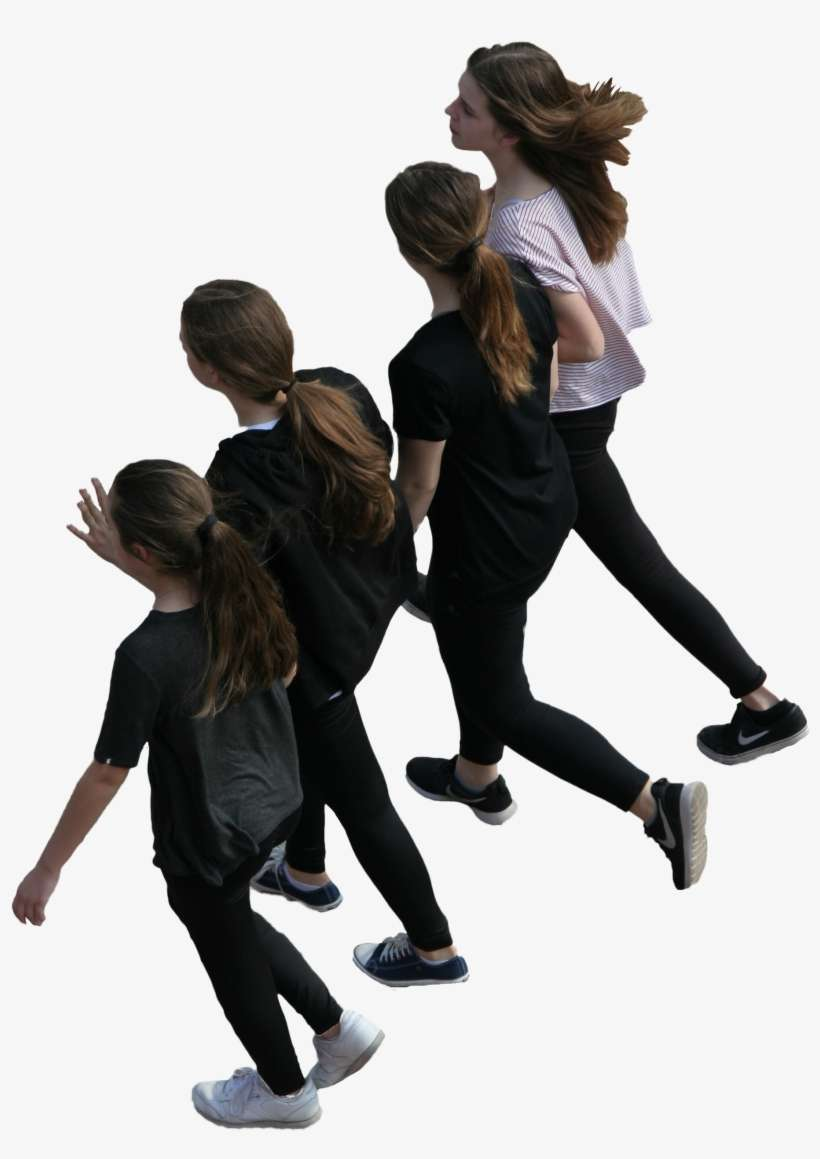person: (399, 42, 810, 765), (67, 276, 465, 990), (10, 458, 387, 1128), (383, 158, 706, 892)
